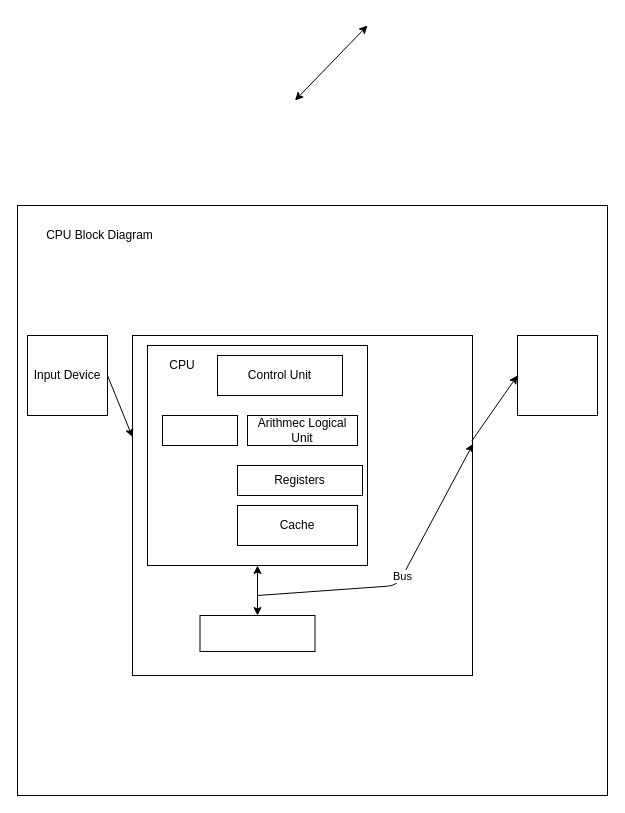
Image size: 625x813. Some labels were removed from this diagram. Each missing label, with the centre of its shape:
"Clock" belongs at (x=200, y=430).
"Memory" belongs at (x=257, y=633).
"Out Put Device" belongs at (x=557, y=375).
